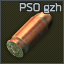9x18mm PM PSO gzh: (0, 0, 64, 64)
